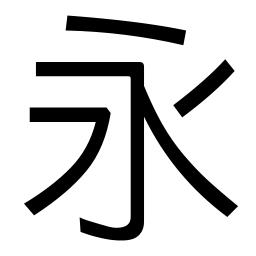D: (63, 12, 188, 47)
HSZ: (117, 57, 151, 90)
Hs: (33, 57, 83, 80)
Ne: (210, 192, 241, 220)
PNc: (147, 101, 188, 129)
PZe: (19, 191, 52, 221)
Ps: (209, 57, 240, 84)
SG: (75, 209, 148, 243)
Sm: (127, 146, 147, 175)
TPZ: (77, 103, 113, 152)
Ts: (28, 103, 60, 126)
